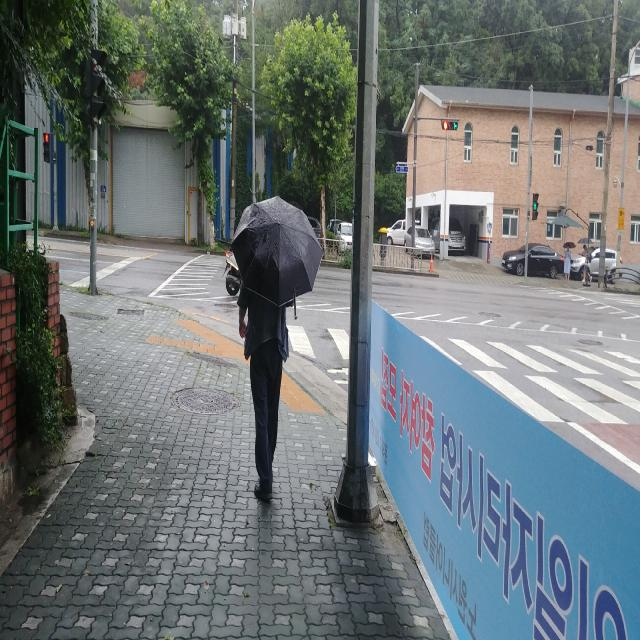빨간불: (42, 131, 51, 165)
횡단보도: (255, 312, 640, 430)
